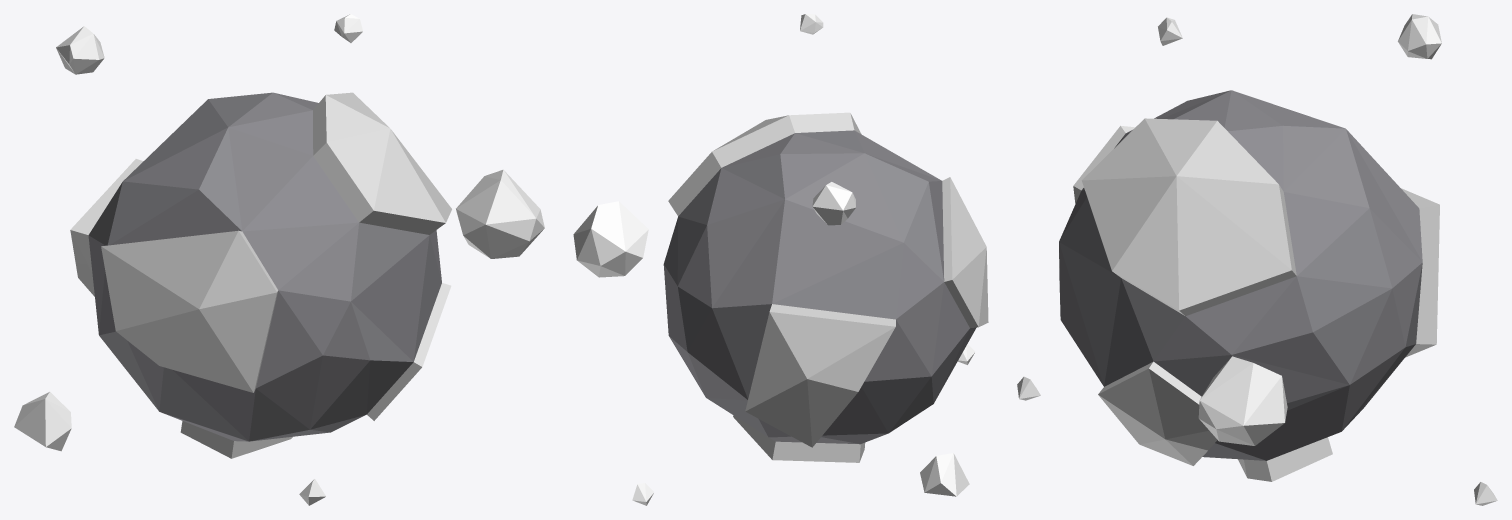
Rendered from Planet_07_a.fbx.
3 renders of one model, left to right at view 1: azimuth 30°, elevation 25°; view 2: azimuth 150°, elevation 25°; view 3: azimuth 270°, elevation 25°, orthographic. The views are drawn at different scales.
Visible parts, largest first — view 1: Planet_08; view 2: Planet_08; view 3: Planet_08.
Boxes of the visible parts, bbox=[...] form: Planet_08: bbox=[14, 14, 544, 505]; Planet_08: bbox=[573, 14, 988, 505]; Planet_08: bbox=[1017, 14, 1497, 505].
Bounding box in the file's own units: 111 × 99.23 × 92.07.
